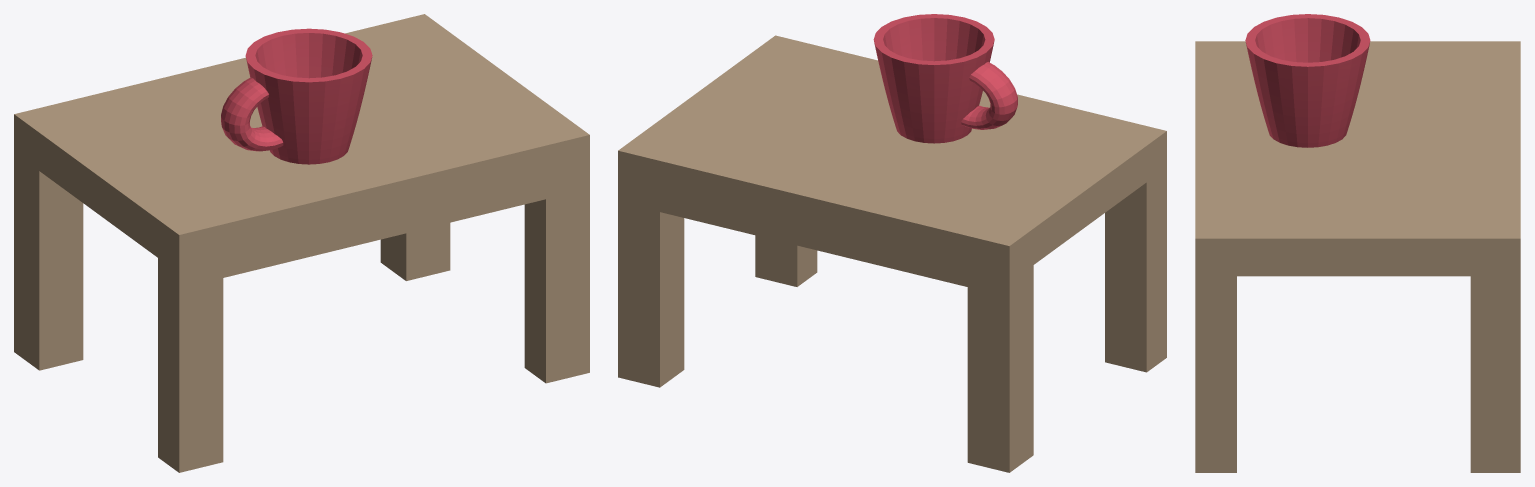
The model's file is Bodacious Lahdi.glb.
The picture shows the model from 3 angles, left to right: view 1: azimuth 30°, elevation 25°; view 2: azimuth 150°, elevation 25°; view 3: azimuth 270°, elevation 25°; orthographic projection. The views are drawn at different scales.
Visible parts, largest first — view 1: Mesh_Mesh_head_geo.001_lambert2SG.001; view 2: Mesh_Mesh_head_geo.001_lambert2SG.001; view 3: Mesh_Mesh_head_geo.001_lambert2SG.001.
Part boxes in pixels (x1,y1,x2,y2): Mesh_Mesh_head_geo.001_lambert2SG.001: (14, 14, 589, 472); Mesh_Mesh_head_geo.001_lambert2SG.001: (618, 14, 1166, 472); Mesh_Mesh_head_geo.001_lambert2SG.001: (1195, 14, 1520, 472).
Bounding box in the file's own units: 56 × 43 × 39.
